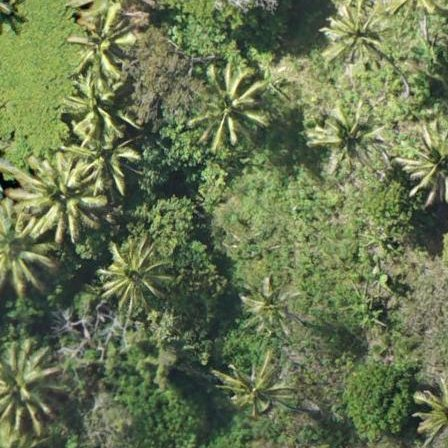palm_tree: (17, 147, 101, 237), (193, 65, 267, 144), (1, 339, 60, 436), (309, 99, 383, 171), (1, 199, 54, 291), (322, 1, 391, 69), (101, 239, 172, 305), (214, 354, 287, 416), (65, 73, 133, 136), (67, 13, 135, 71), (401, 121, 448, 196), (241, 280, 298, 337)
